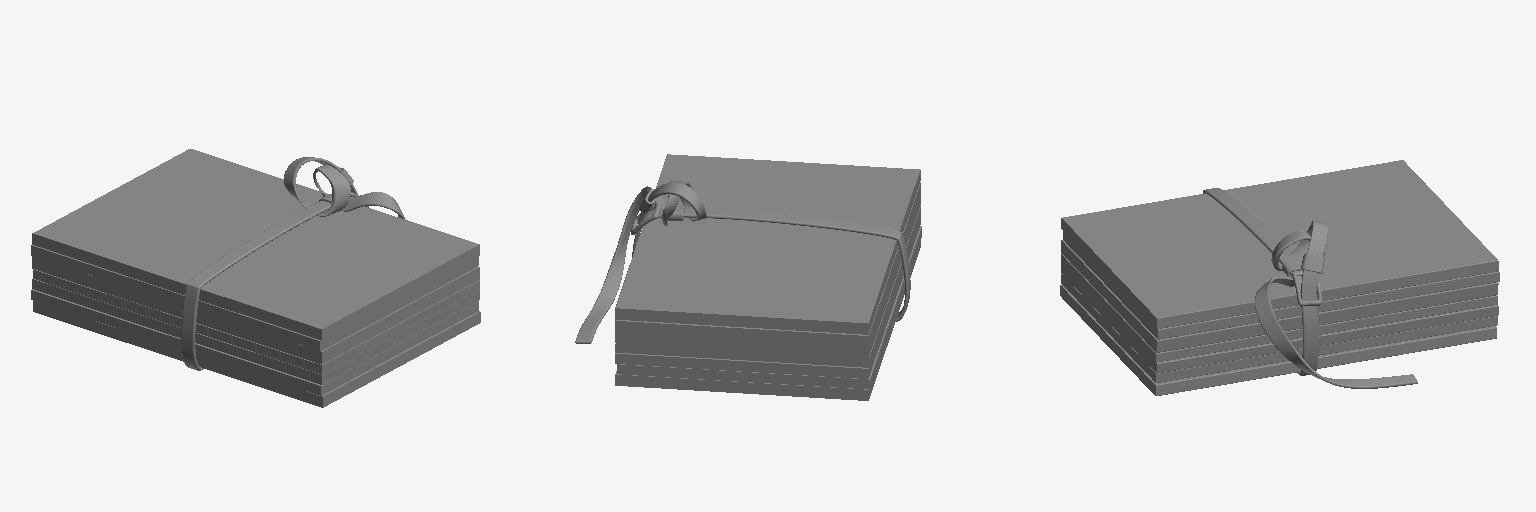
The model's file is book.obj.
3 views of the same model, side by side, from view 1: azimuth 30°, elevation 25°; view 2: azimuth 150°, elevation 25°; view 3: azimuth 270°, elevation 25° (orthographic).
Parts seen in each view (by area): view 1: Magazines001; view 2: Magazines001; view 3: Magazines001.
Boxes of the visible parts, x1=… form: Magazines001: x1=31, y1=149, x2=480, y2=407; Magazines001: x1=575, y1=154, x2=921, y2=400; Magazines001: x1=1060, y1=160, x2=1499, y2=395.
Bounding box in the file's own units: 8 × 3.17 × 9.31.